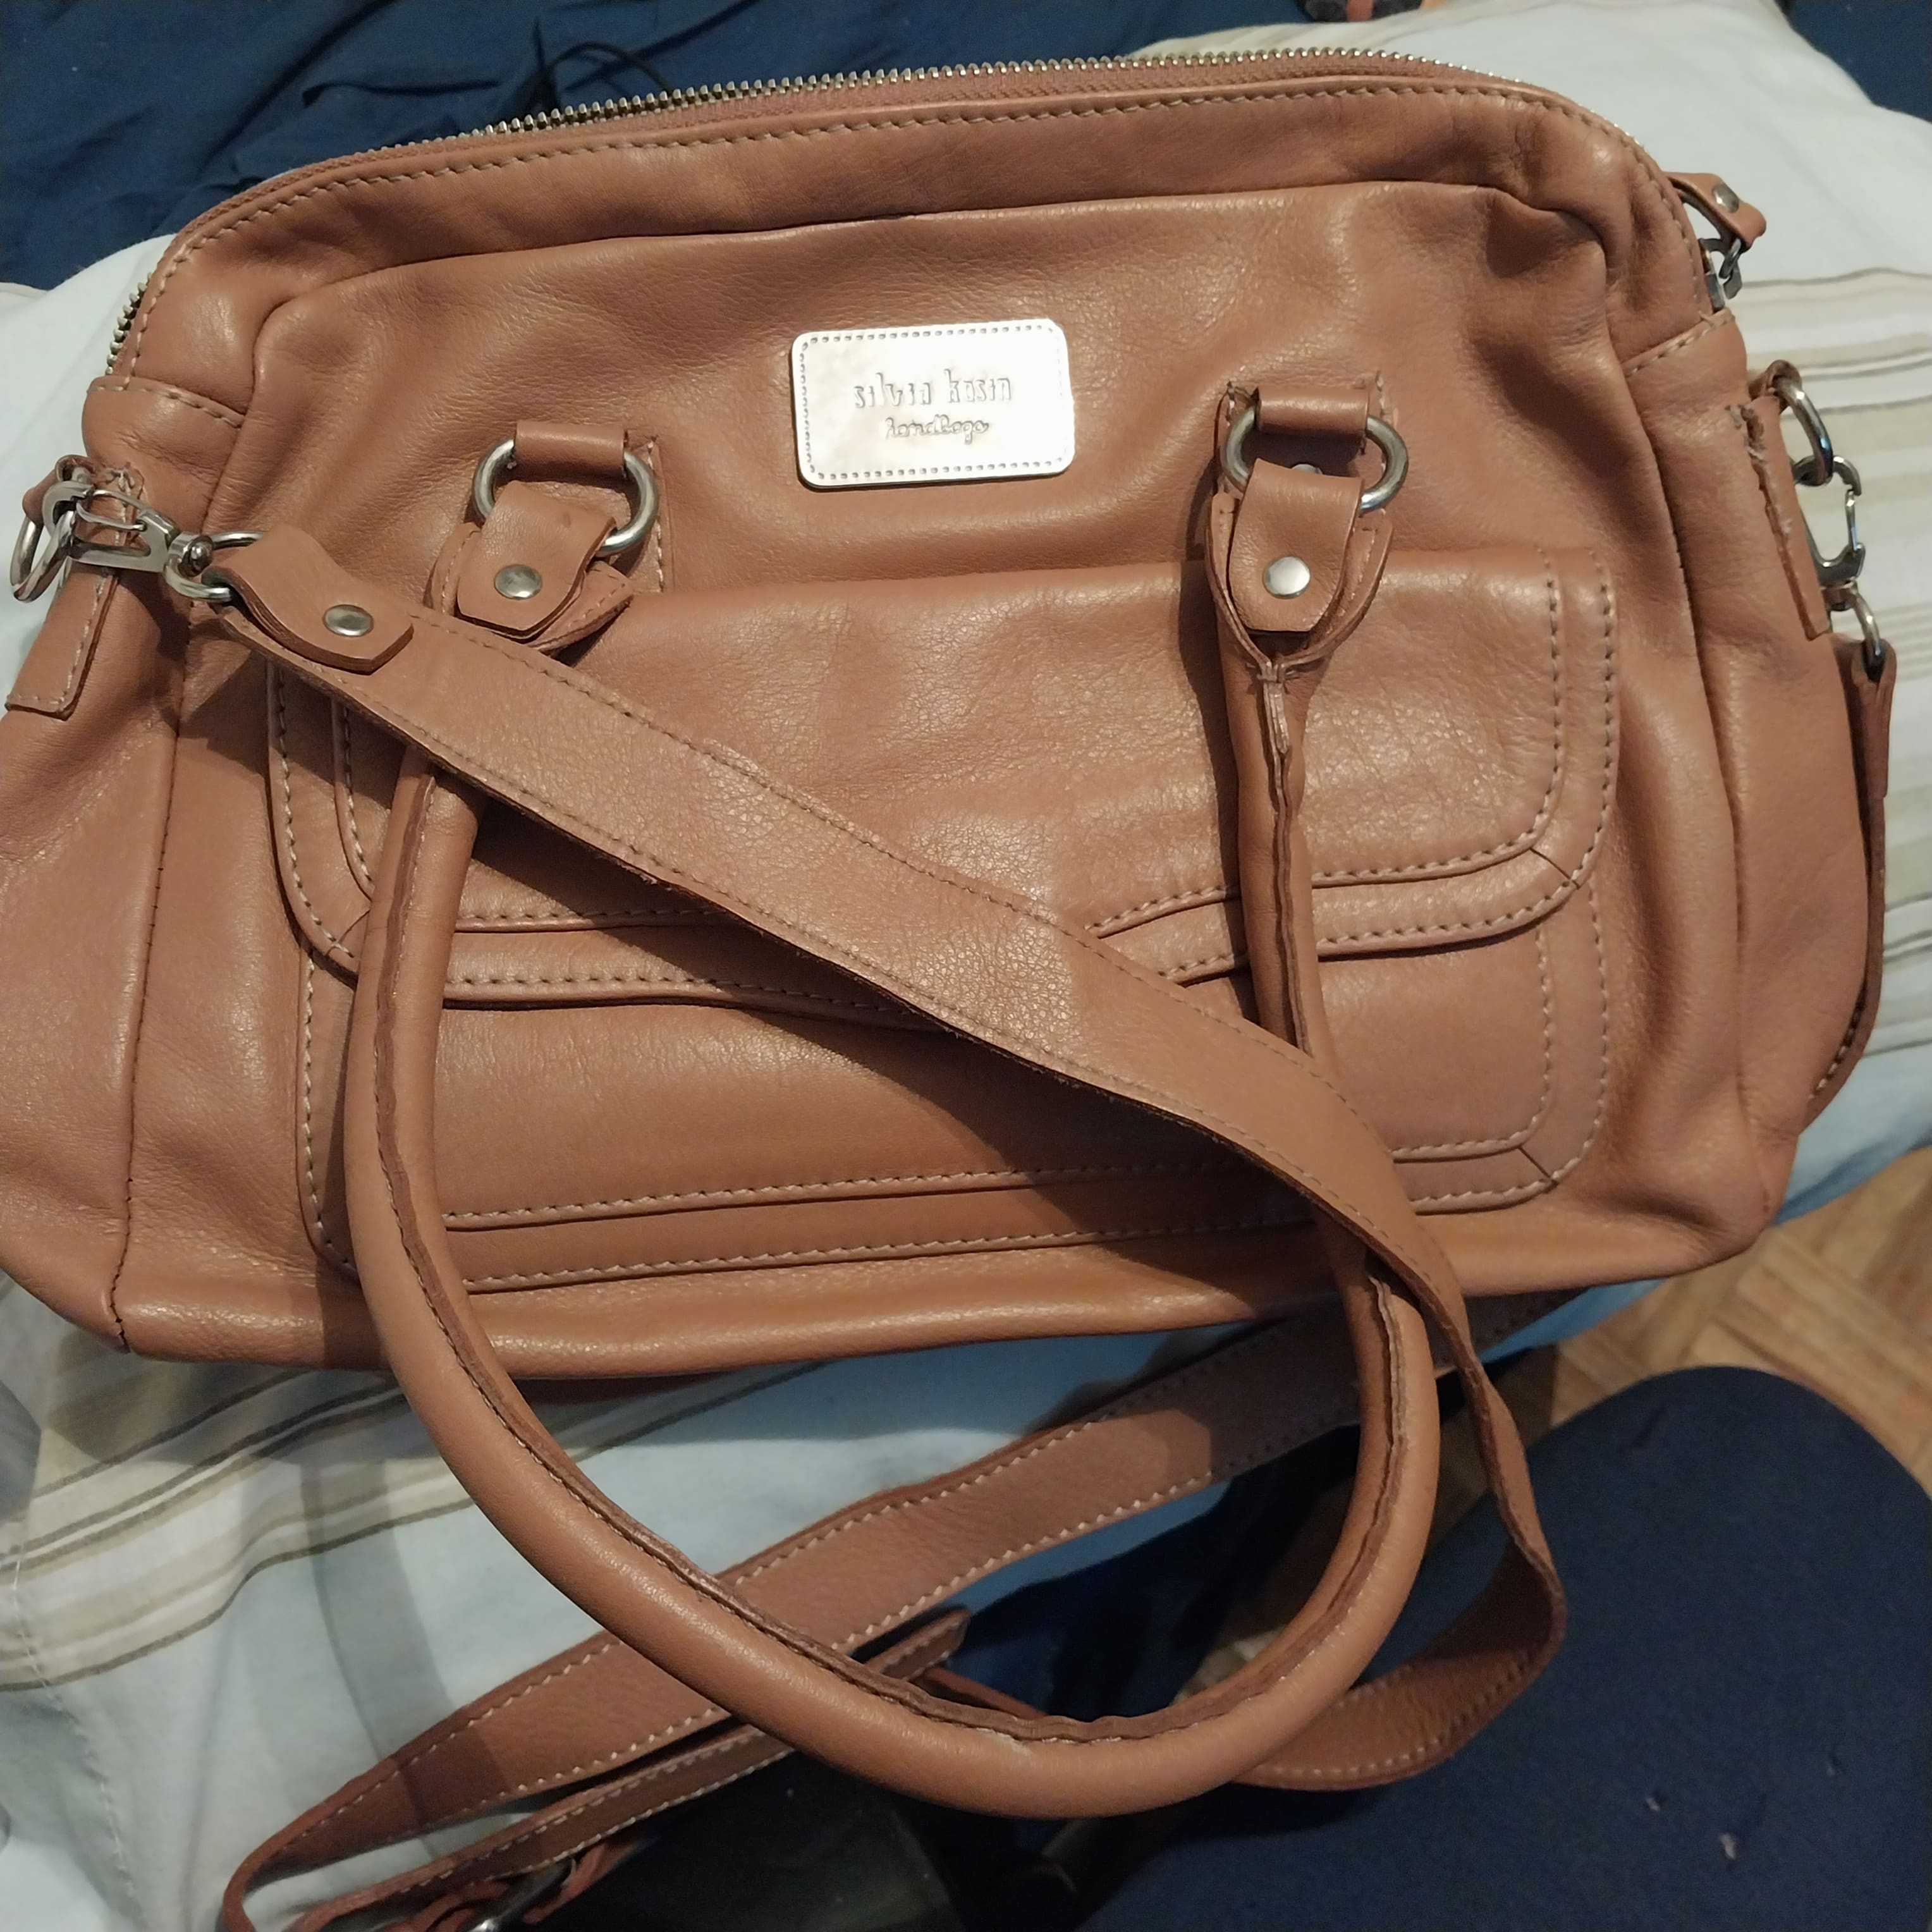cartera: (34, 87, 1771, 1233)
cuero: (669, 628, 1746, 1221)
